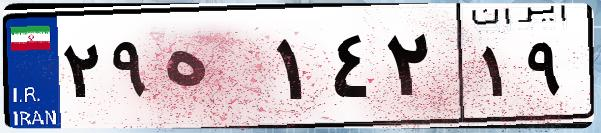1: (270, 28, 330, 110), (475, 38, 525, 113)
2: (385, 28, 445, 110), (57, 26, 110, 100)
4: (330, 28, 385, 110)
9: (525, 38, 570, 115), (110, 28, 158, 98)
ه: (158, 20, 270, 120)
